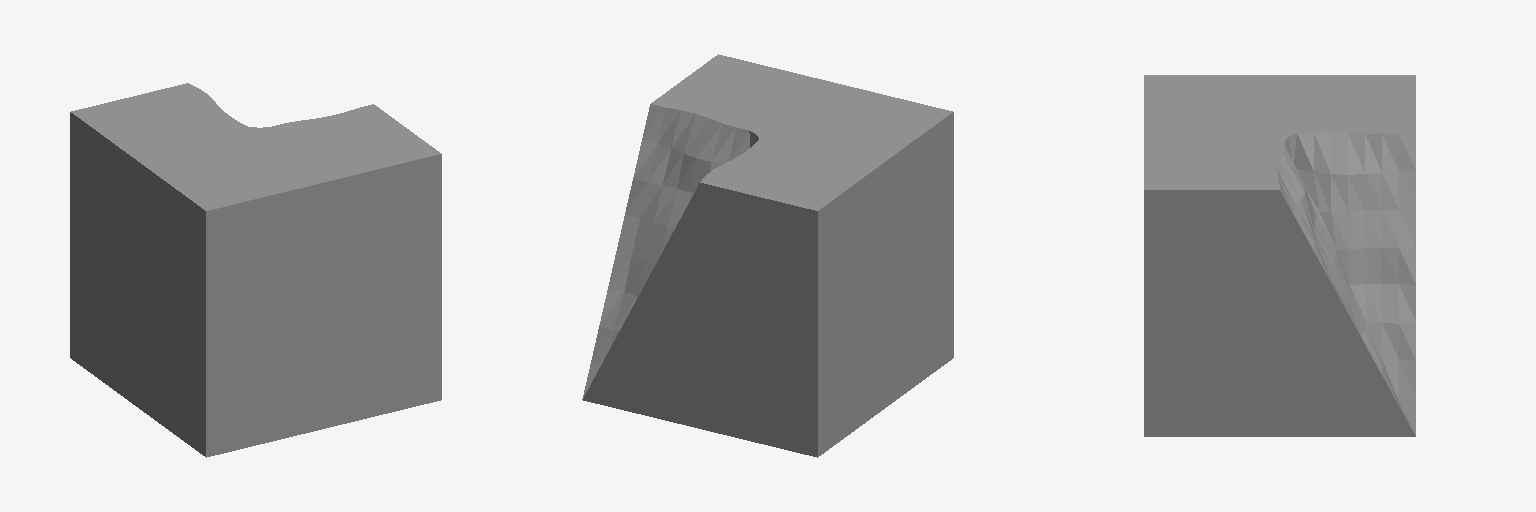
The model's file is single_edge.obj.
3 renders of one model, left to right at view 1: azimuth 30°, elevation 25°; view 2: azimuth 150°, elevation 25°; view 3: azimuth 270°, elevation 25°, orthographic.
Parts seen in each view (by area): view 1: Cube.001; view 2: Cube.001; view 3: Cube.001.
Part boxes in pixels (x1,y1,x2,y2): Cube.001: (70,83,441,457); Cube.001: (582,54,953,457); Cube.001: (1144,75,1415,436).
Bounding box in the file's own units: 1 × 1 × 1.